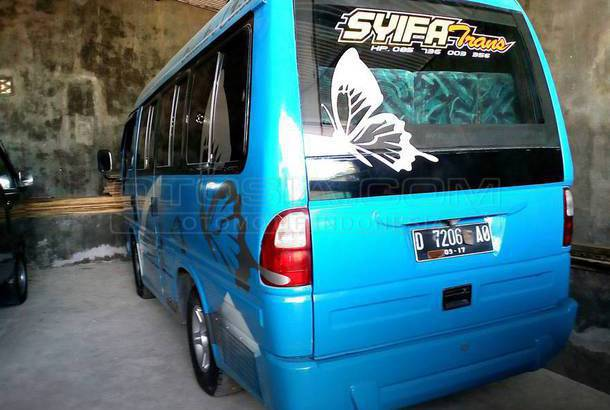plate: (414, 223, 495, 262)
